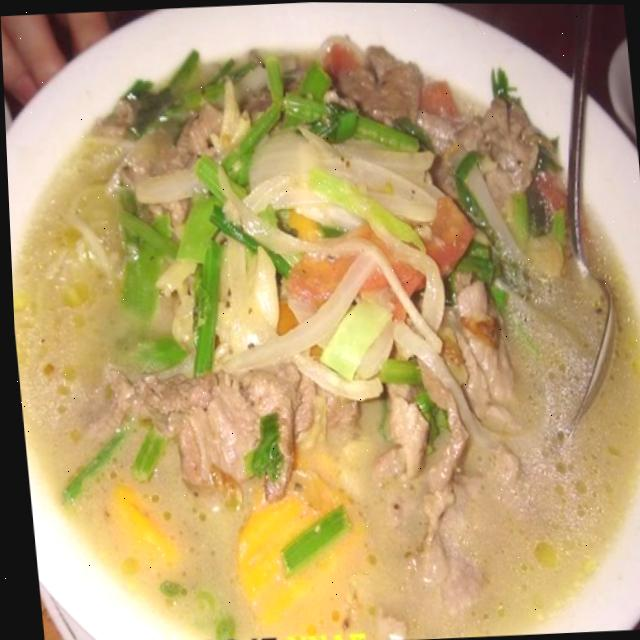牛肉菜式: (8, 30, 637, 640)
